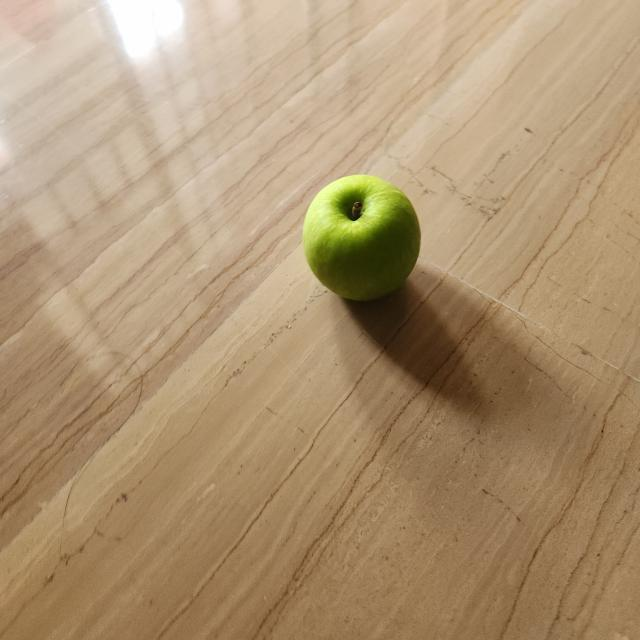apple: (302, 171, 420, 308)
